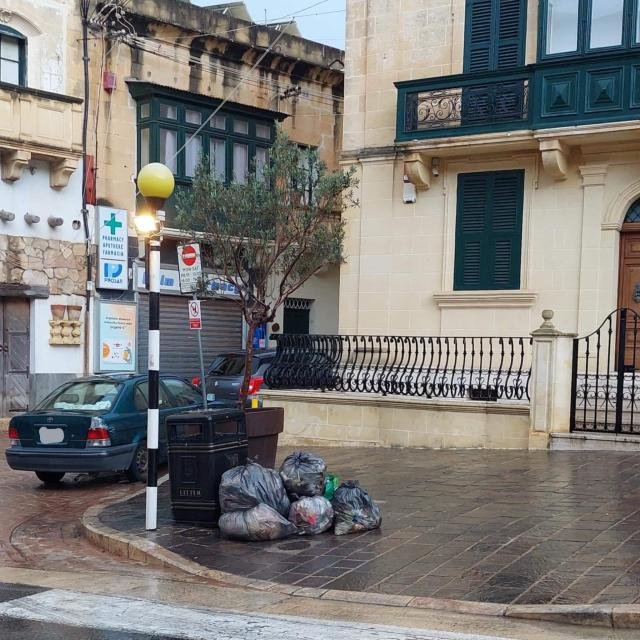Mixed Waste -Black Bag-: (219, 456, 290, 521), (219, 505, 298, 542), (334, 480, 383, 538), (280, 452, 328, 500), (288, 496, 335, 537)
Other: (326, 475, 340, 501)
